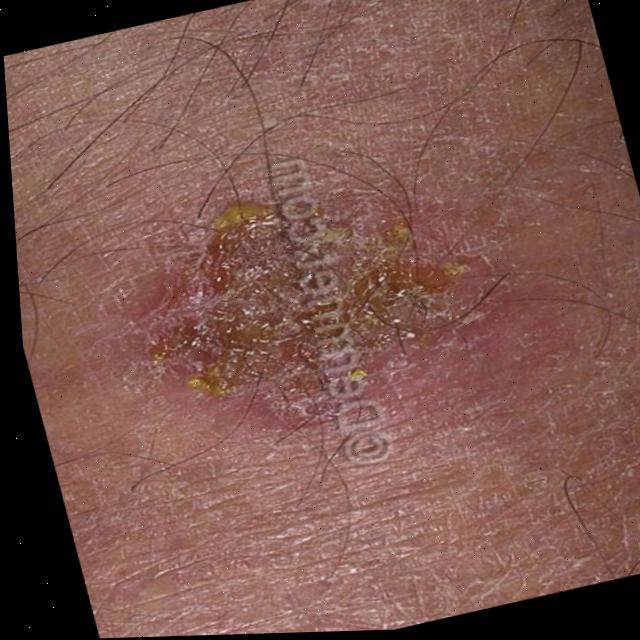Eczema: (87, 153, 481, 420)
